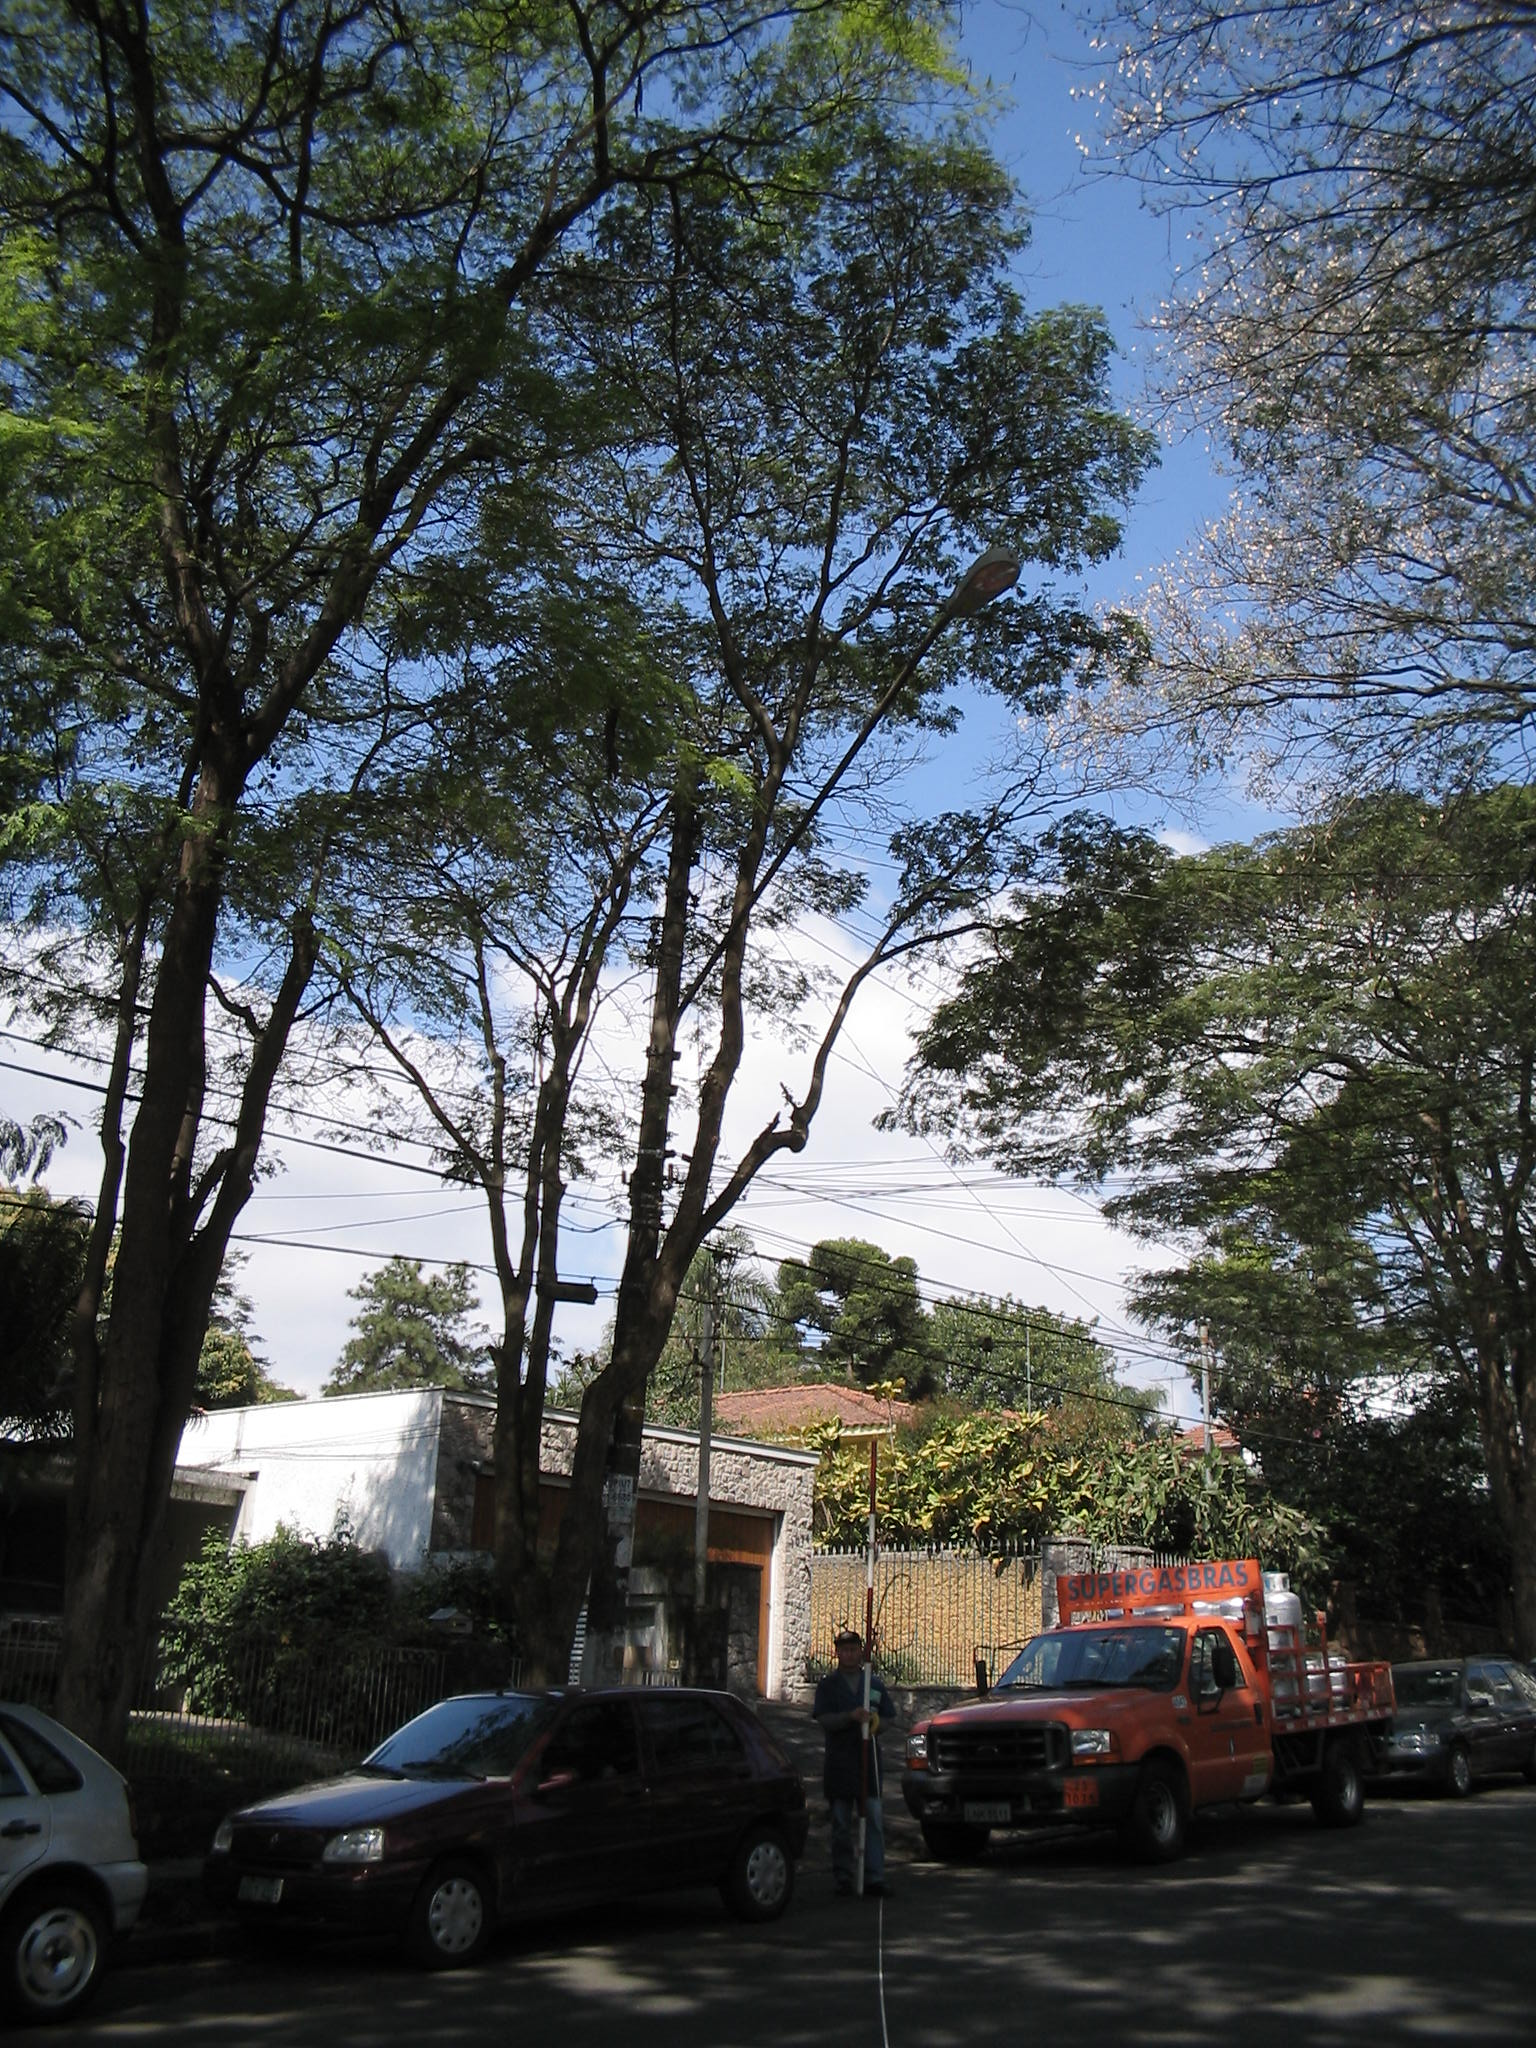crown: (313, 140, 1154, 977), (6, 15, 929, 739), (920, 818, 1530, 1322)
stem: (29, 1538, 177, 1911)
stick: (841, 1435, 889, 1896)
tree: (6, 3, 937, 1914), (307, 135, 1155, 1896), (908, 814, 1534, 1722)
